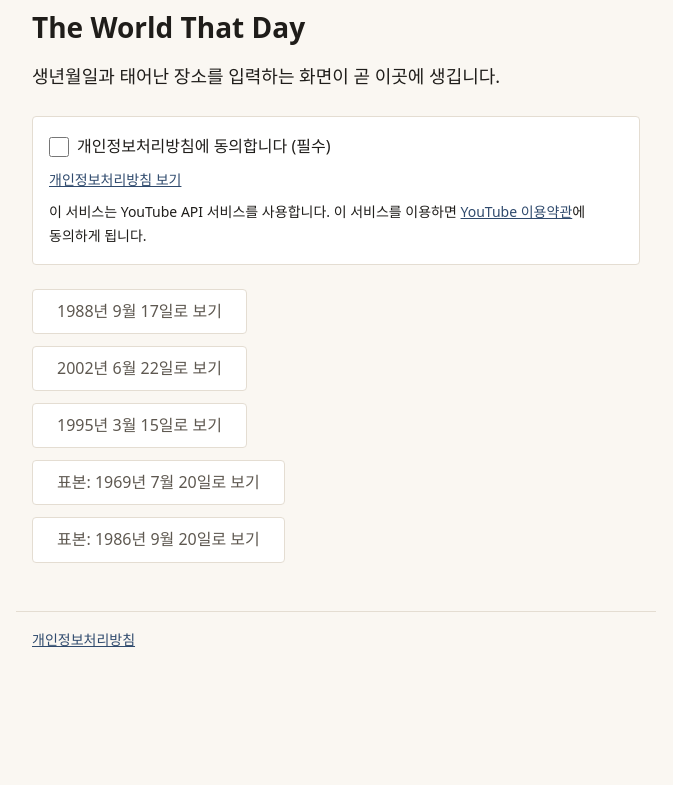
Test: synthetic tragic days through the demo button › worldTragicOnly: every new-tab link says so, no media in the section
The width and height of the screenshot is (673, 785).
What coordinates should you click on to do the following:
click the checkbox labelled "개인정보처리방침에 동의합니다 (필수)"
I would click on:
 (59, 147)
Its box is 49,137 -> 69,157.
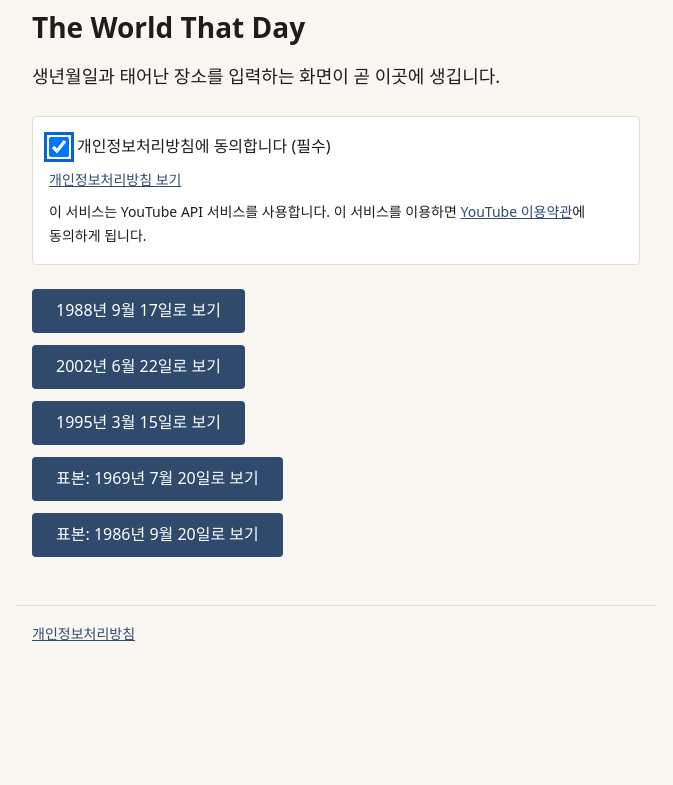
What coordinates should you click on to do the following:
click the button "1988년 9월 17일로 보기"
I would click on:
 (138, 311)
Its box is 32,289 -> 245,333.
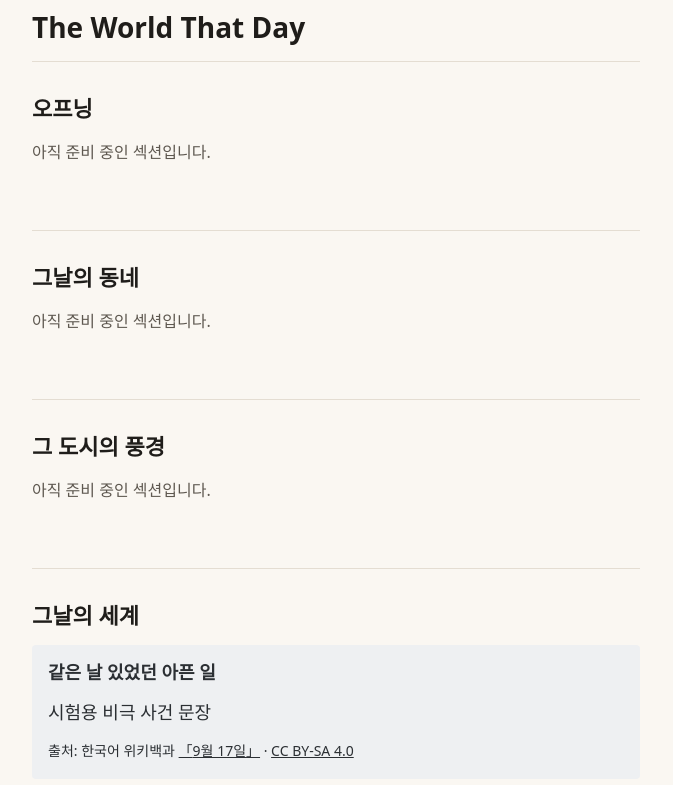
Expected: the link "「9월 17일」" is shown, 179,741 -> 260,760
Now the text "시험용 비극 사건 문장" is shown, box 48,700 -> 211,724
